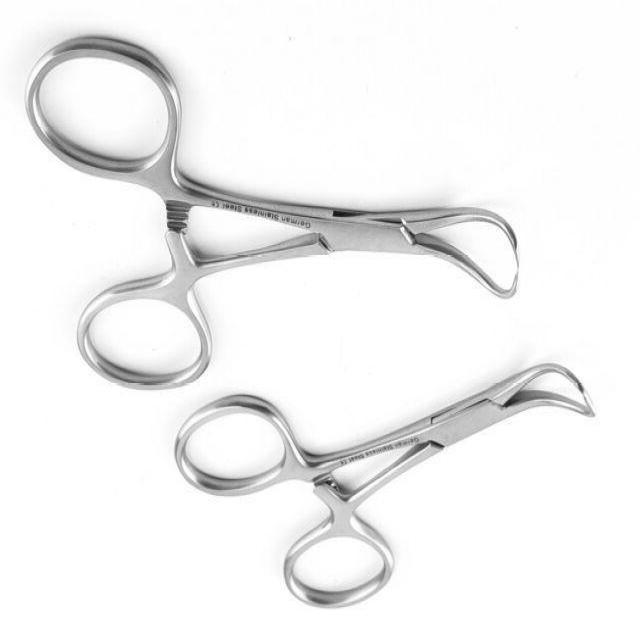Towel_clip: (22, 33, 524, 394), (171, 358, 597, 614)
